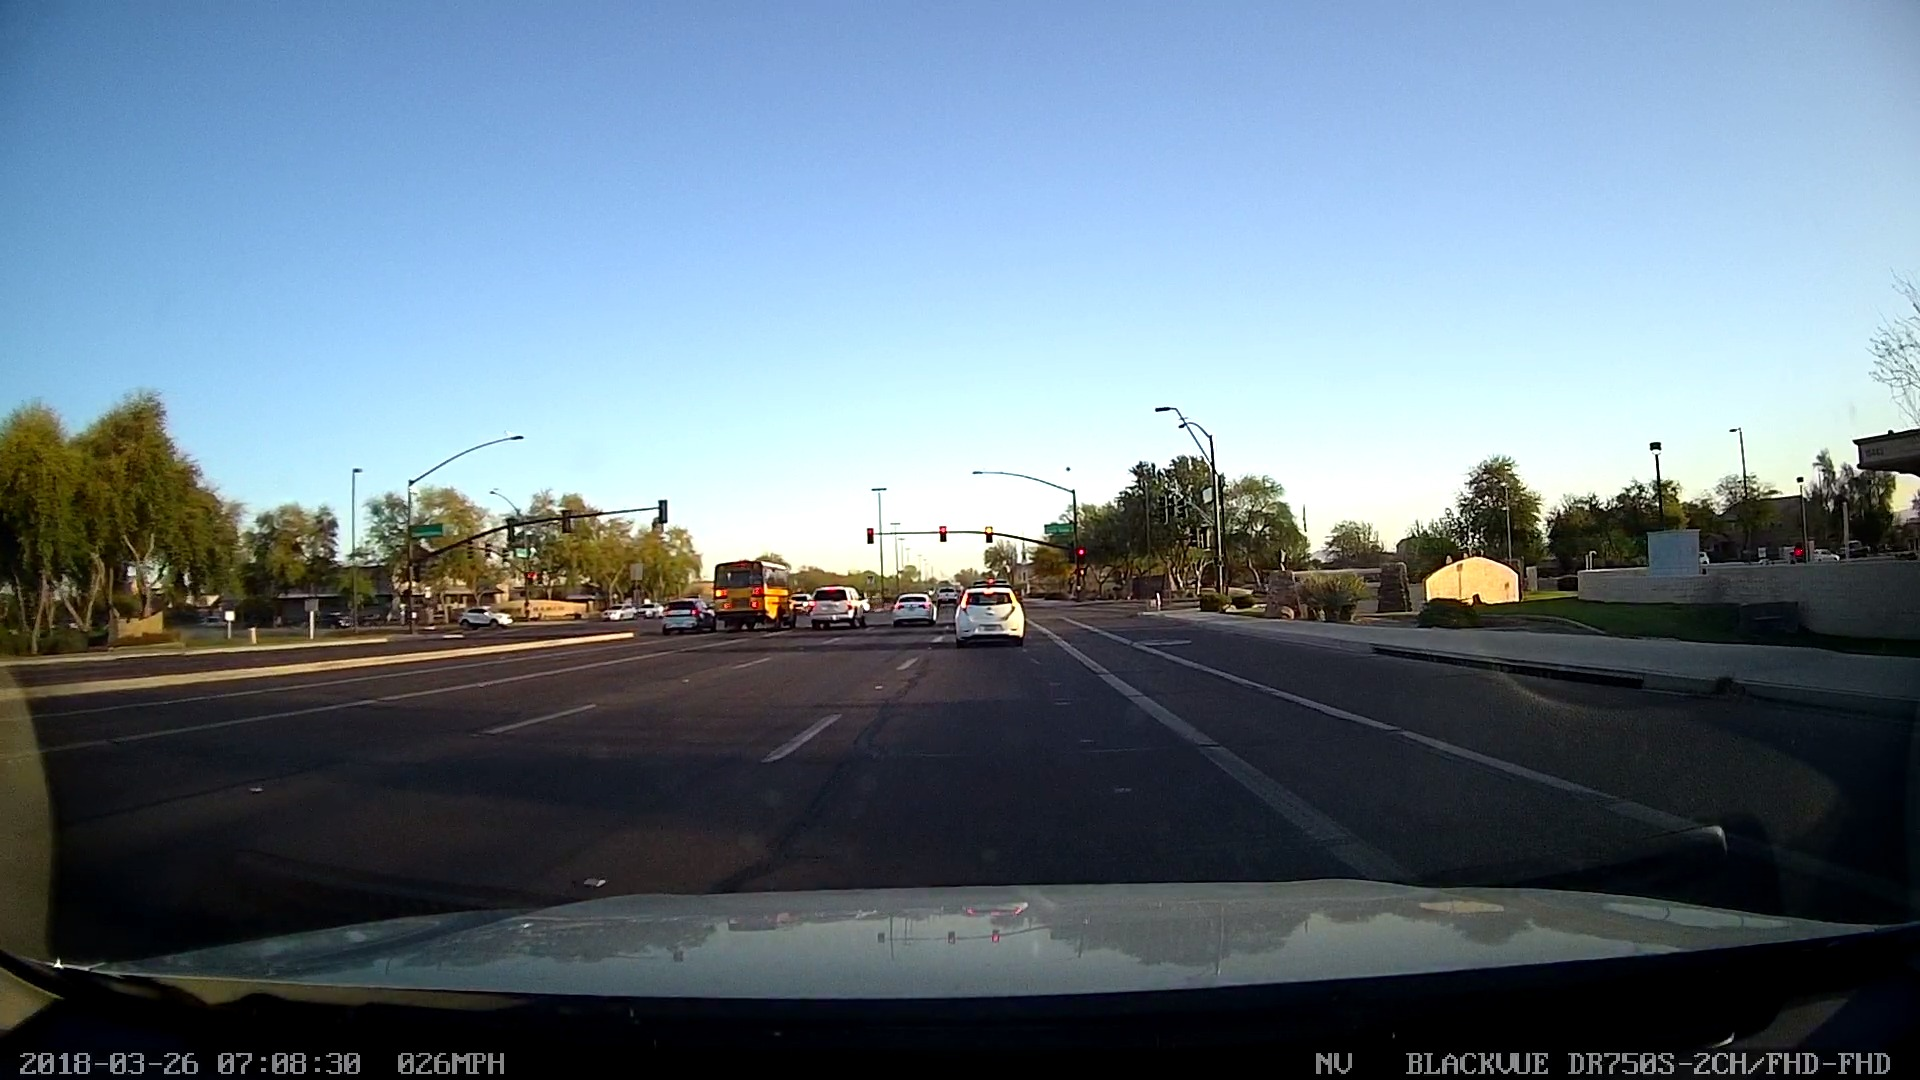vehicle: (702, 541, 803, 640), (945, 575, 1029, 651), (794, 574, 866, 633), (654, 585, 715, 644), (885, 578, 940, 632), (452, 600, 516, 636)
